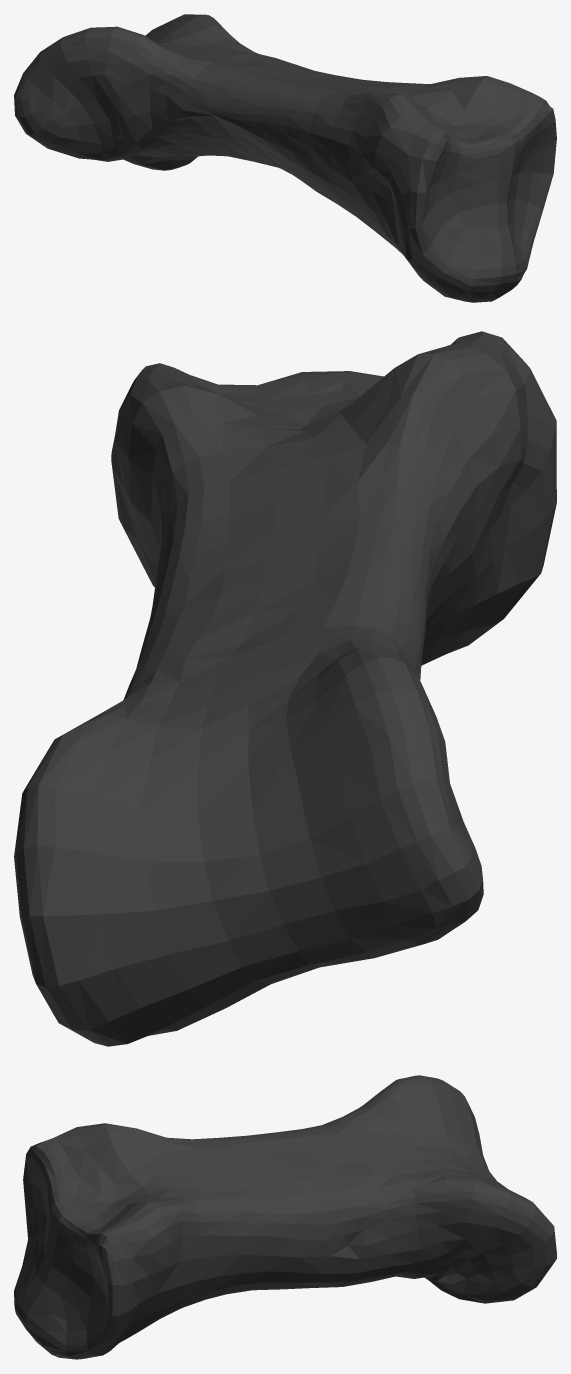
The model's file is Proximal_phalange_1.glb.
3 views of the same model, one above another, from view 1: azimuth 30°, elevation 25°; view 2: azimuth 150°, elevation 25°; view 3: azimuth 270°, elevation 25° (orthographic). The views are drawn at different scales.
Visible parts, largest first — view 1: Proximal_phalange_1; view 2: Proximal_phalange_1; view 3: Proximal_phalange_1.
Part boxes in pixels (<box>): Proximal_phalange_1: <box>14,14,556,302</box>; Proximal_phalange_1: <box>14,331,556,1046</box>; Proximal_phalange_1: <box>14,1075,556,1359</box>.
Bounding box in the file's own units: 0.1302 × 0.0689 × 0.1739.
1 material, 1 textured.
